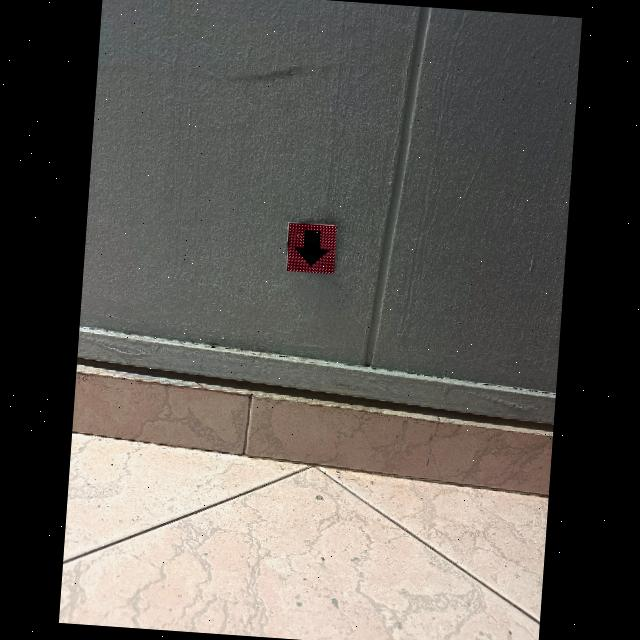DOWN: (294, 230, 329, 266)
